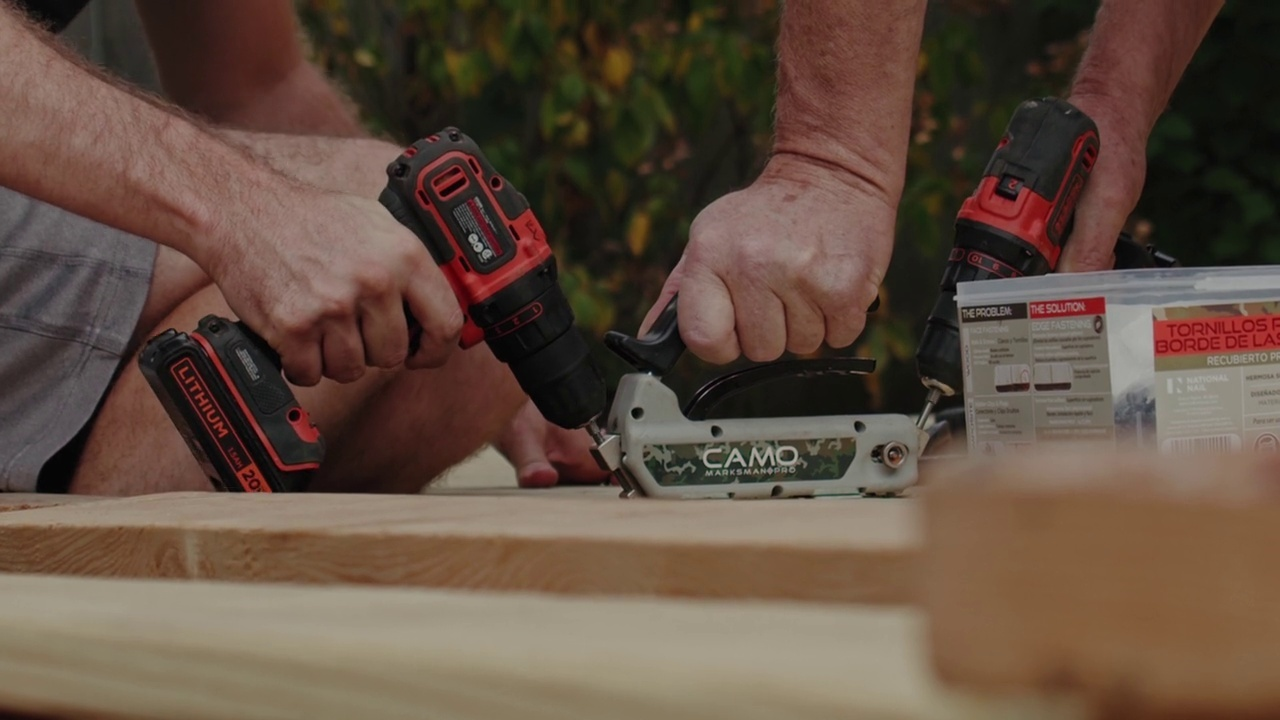driller: (136, 122, 603, 495), (913, 94, 1164, 434)
